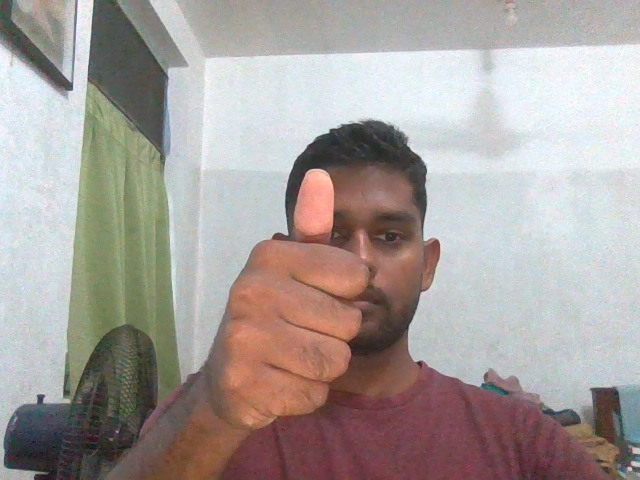good.: (209, 162, 365, 431)
